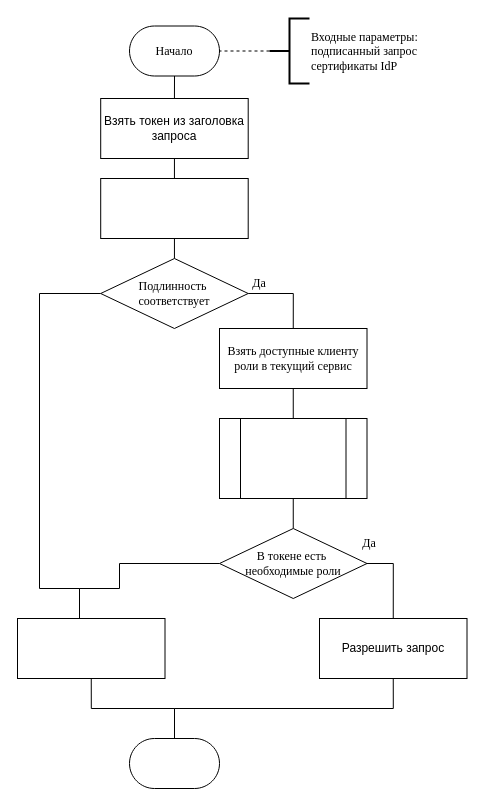
The diagram is 485 pixels wide and 806 high, and some of its shapes have lost their labels. Here are the shapes that lost their labels. From the top down, the centre of each, then its label:
At (x=174, y=208): "Расшифровать токен сертификатами IdP".
At (x=292, y=458): "Анализ запроса на предмет необходимых ролей".
At (x=90, y=648): "Вернуть ошибку доступа".
At (x=174, y=763): "Конец".
